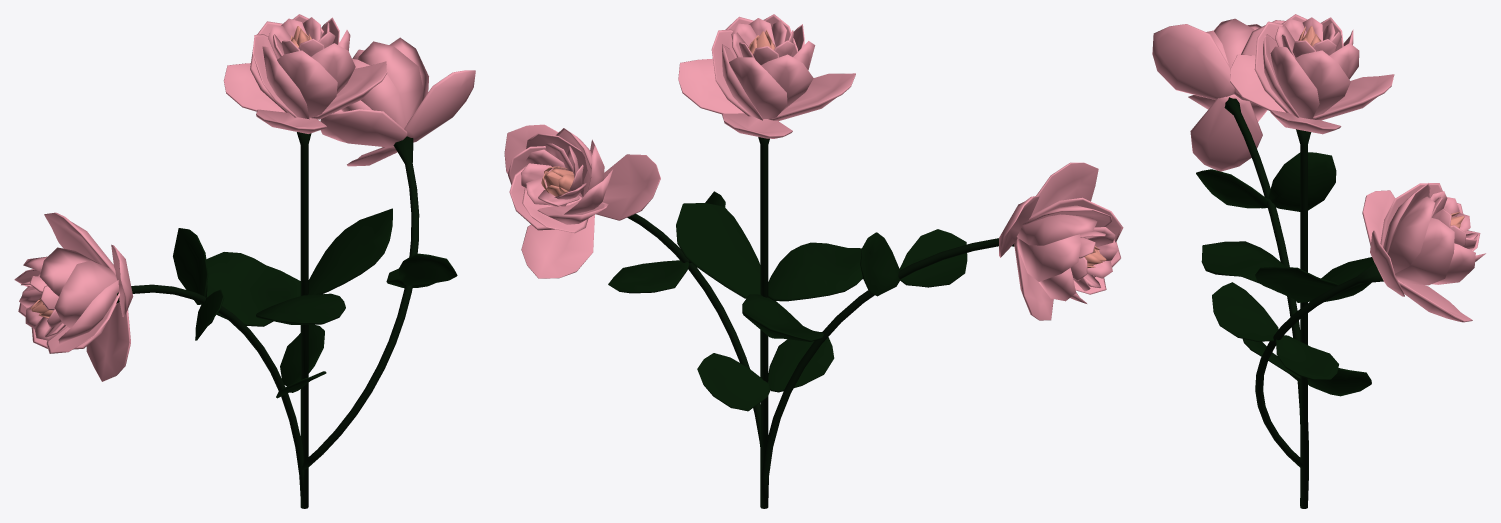
The model's file is Flower_Beli.fbx.
The picture shows the model from 3 angles, left to right: view 1: azimuth 30°, elevation 25°; view 2: azimuth 150°, elevation 25°; view 3: azimuth 270°, elevation 25°; orthographic projection.
Parts seen in each view (by area): view 1: Beli; view 2: Beli; view 3: Beli.
Boxes of the visible parts, left/top/right/bottom form: Beli: left=14, top=14, right=475, bottom=508; Beli: left=504, top=14, right=1123, bottom=508; Beli: left=1152, top=14, right=1485, bottom=508.
Bounding box in the file's own units: 14.44 × 12.67 × 7.99.
